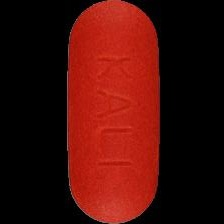21695-236: (0, 0, 224, 224)
